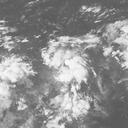cyclone: (38, 35, 97, 96)
